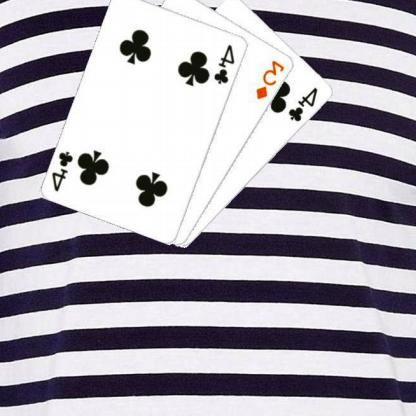3D: (255, 57, 288, 101)
4C: (288, 84, 321, 124), (51, 148, 77, 192), (213, 42, 238, 86)
